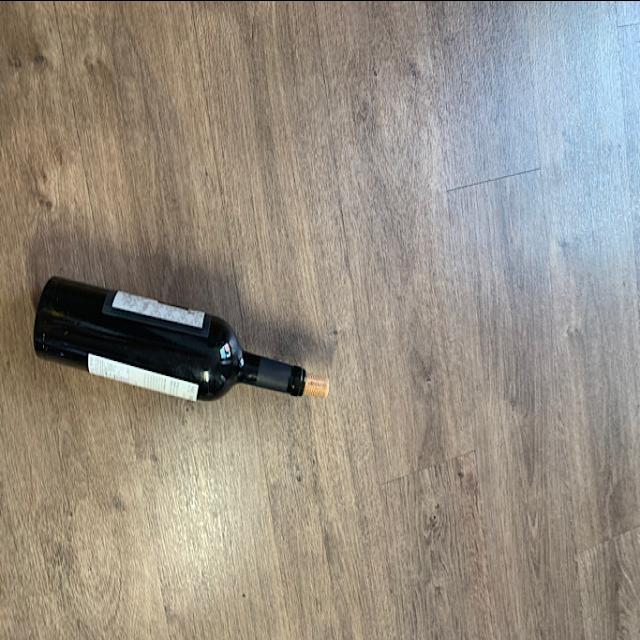Glass Bottle: (32, 275, 306, 404)
